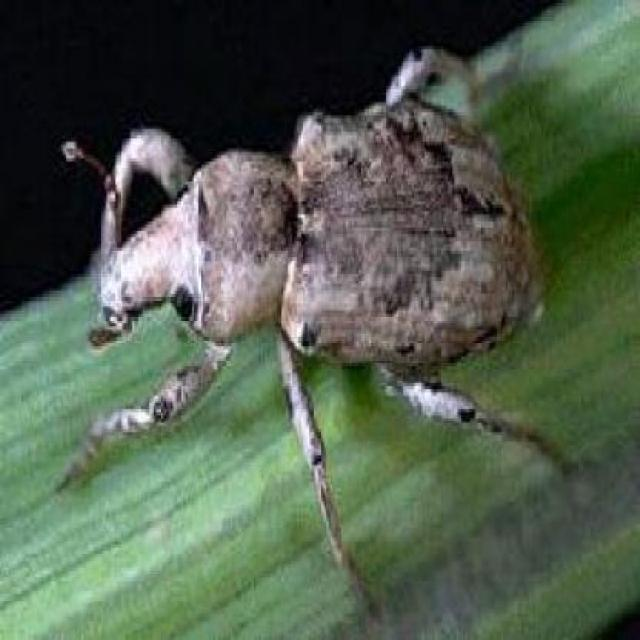rice-bug: (76, 41, 539, 474)
